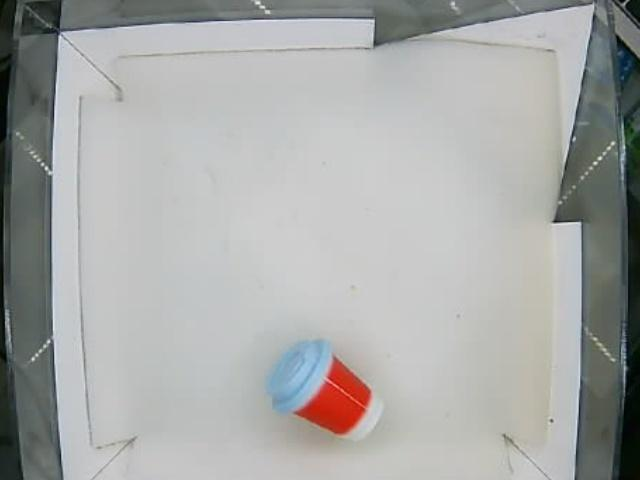Cup: (266, 337, 381, 440)
